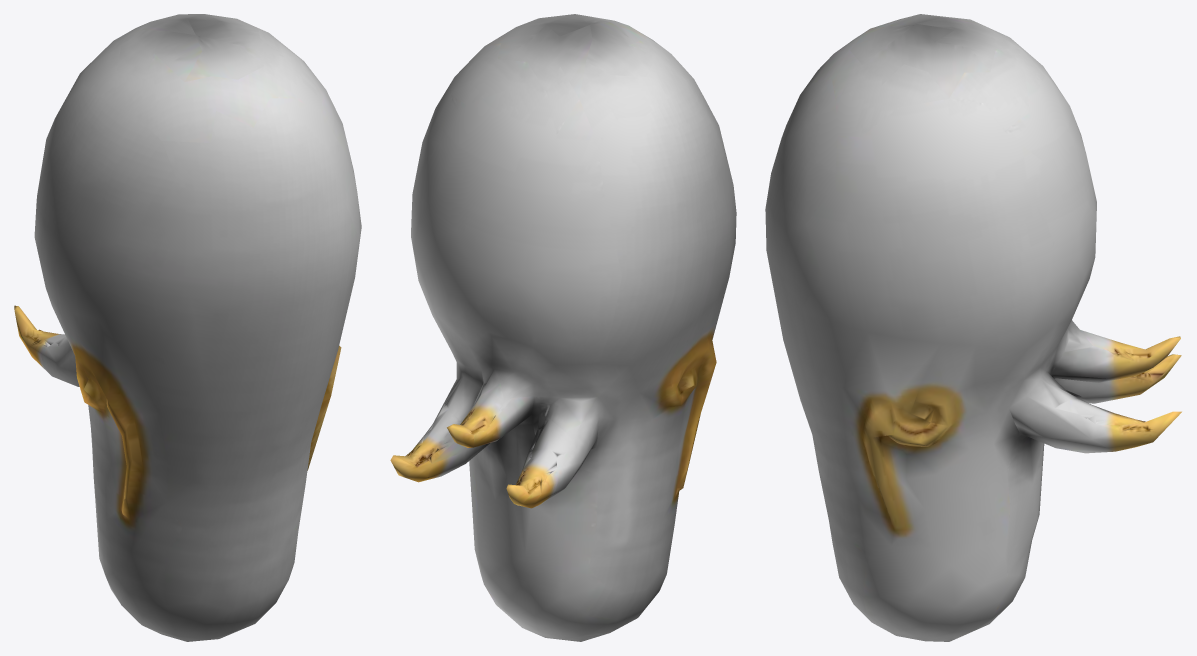
Rendered from trau_legu.glb.
3 views of the same model, side by side, from view 1: azimuth 30°, elevation 25°; view 2: azimuth 150°, elevation 25°; view 3: azimuth 270°, elevation 25° (orthographic).
Visible parts, largest first — view 1: trau_legu; view 2: trau_legu; view 3: trau_legu.
Part boxes in pixels (x1=…): trau_legu: x1=14, y1=14, x2=361, y2=641; trau_legu: x1=390, y1=14, x2=736, y2=641; trau_legu: x1=765, y1=14, x2=1181, y2=641.
Bounding box in the file's own units: 0.3167 × 0.6498 × 0.4067.
1 material, 1 textured.
